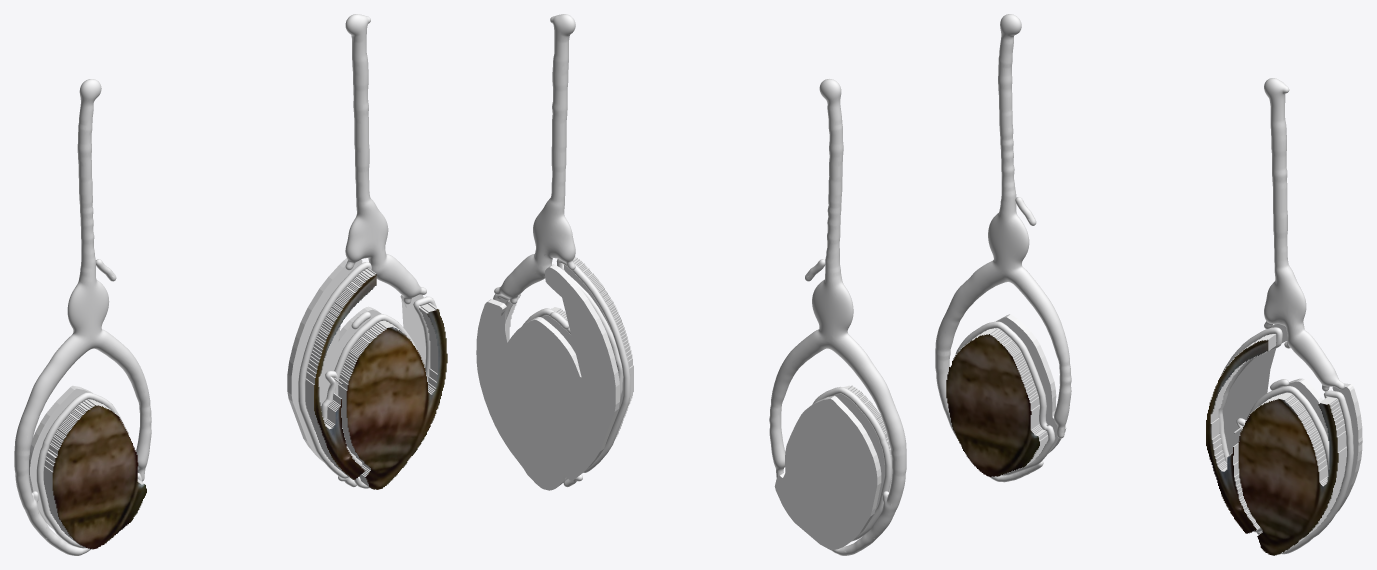
3 views of the same model, side by side, from view 1: azimuth 30°, elevation 25°; view 2: azimuth 150°, elevation 25°; view 3: azimuth 330°, elevation 25° (orthographic).
Visible parts, largest first — view 1: joya; view 2: joya; view 3: joya.
Part boxes in pixels (box(x1,y1,x2,y2)): joya: box(14, 14, 447, 555); joya: box(476, 14, 906, 555); joya: box(935, 14, 1362, 555).
Bounding box in the file's own units: 0.0355 × 0.0378 × 0.00325.
3 materials, 1 textured.
